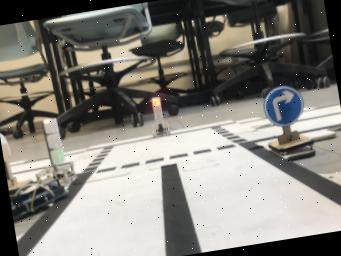right: (262, 85, 315, 161), (262, 85, 315, 161), (262, 85, 315, 161)
street: (16, 117, 341, 256), (16, 117, 341, 256), (16, 117, 341, 256)
traffic_light: (36, 118, 76, 189), (36, 118, 76, 189), (36, 118, 76, 189), (150, 97, 170, 138), (150, 97, 170, 138), (150, 97, 170, 138)
